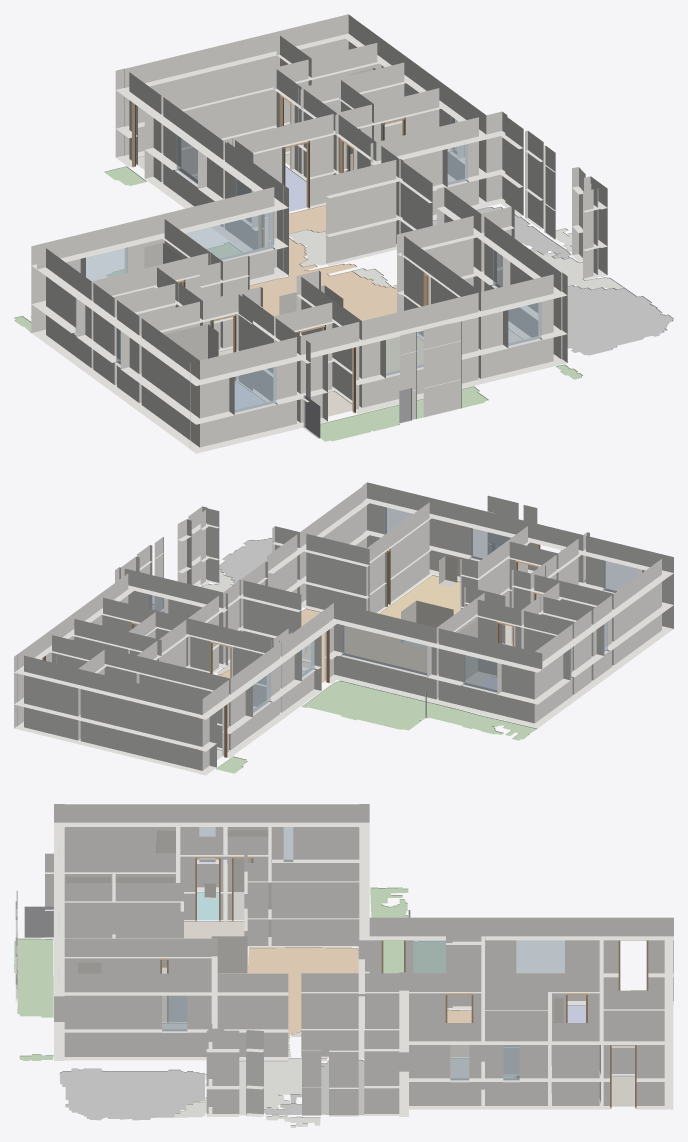
3 views of the same model, one above another, from view 1: azimuth 30°, elevation 25°; view 2: azimuth 150°, elevation 25°; view 3: azimuth 270°, elevation 25° (orthographic). The views are drawn at different scales.
Visible parts, largest first — view 1: walls, floor_21_Garage, floor_18_Living_Room, window_9, floor_15_Outdoor, window_3, furniture_4_closet, window_16, floor_20_Garage, floor_24_Undefined, window_0, railings (+7 smaller); view 2: walls, floor_14_Outdoor, floor_18_Living_Room, window_9, floor_17_Kitchen, floor_21_Garage, furniture_19_fireplace, window_0, window_2, window_3, furniture_2_closet, furniture_12_appliance (+1 smaller); view 3: walls, floor_21_Garage, floor_18_Living_Room, floor_15_Outdoor, floor_14_Outdoor, floor_24_Undefined, window_6, floor_20_Garage, furniture_19_fireplace, window_8, furniture_3_closet, railings (+6 smaller).
Part boxes in pixels (x1,y1,x2,y2): walls: (31, 14, 607, 453); floor_21_Garage: (567, 285, 673, 355); floor_18_Living_Room: (249, 205, 396, 320); window_9: (185, 209, 273, 260); floor_15_Outdoor: (320, 386, 488, 441); window_3: (234, 367, 276, 412); furniture_4_closet: (164, 324, 218, 360); window_16: (508, 302, 541, 345); floor_20_Garage: (432, 206, 571, 258); floor_24_Undefined: (533, 250, 624, 289); window_0: (83, 245, 127, 281); railings: (303, 388, 411, 438); walls: (14, 482, 673, 775); floor_14_Outdoor: (302, 680, 536, 740); floor_18_Living_Room: (217, 608, 426, 682); window_9: (342, 625, 427, 675); floor_17_Kitchen: (379, 575, 460, 618); floor_21_Garage: (219, 537, 272, 584); furniture_19_fireplace: (401, 600, 453, 649); window_0: (463, 654, 497, 692); window_2: (470, 528, 510, 559); window_3: (603, 558, 637, 592); furniture_2_closet: (458, 618, 502, 685); furniture_12_appliance: (439, 556, 457, 587); walls: (15, 804, 673, 1116); floor_21_Garage: (59, 1068, 204, 1120); floor_18_Living_Room: (248, 947, 471, 1056); floor_15_Outdoor: (14, 938, 53, 1017); floor_14_Outdoor: (370, 887, 445, 973); floor_24_Undefined: (175, 1058, 327, 1117); window_6: (516, 940, 564, 973); floor_20_Garage: (264, 1059, 364, 1115); furniture_19_fireplace: (211, 936, 247, 973); window_8: (413, 940, 445, 973); furniture_3_closet: (227, 830, 268, 919); railings: (16, 906, 410, 998).
Size of the model in its own units: 16.7 by 2.72 by 19.41.
